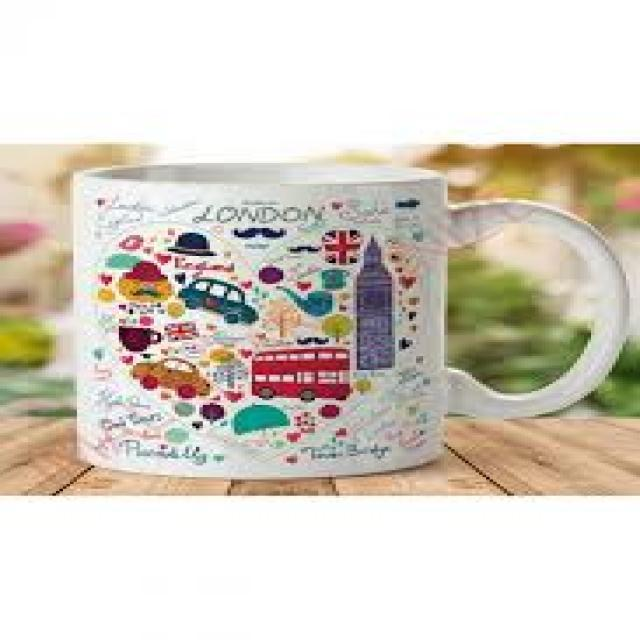taza: (72, 160, 632, 480)
